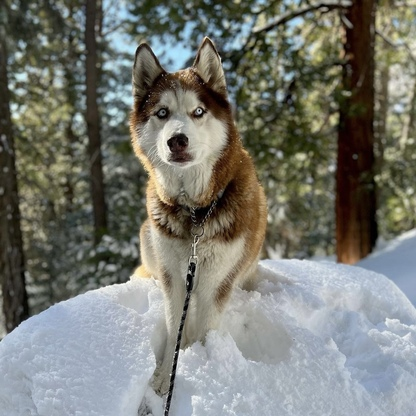husky: (122, 33, 272, 397)
